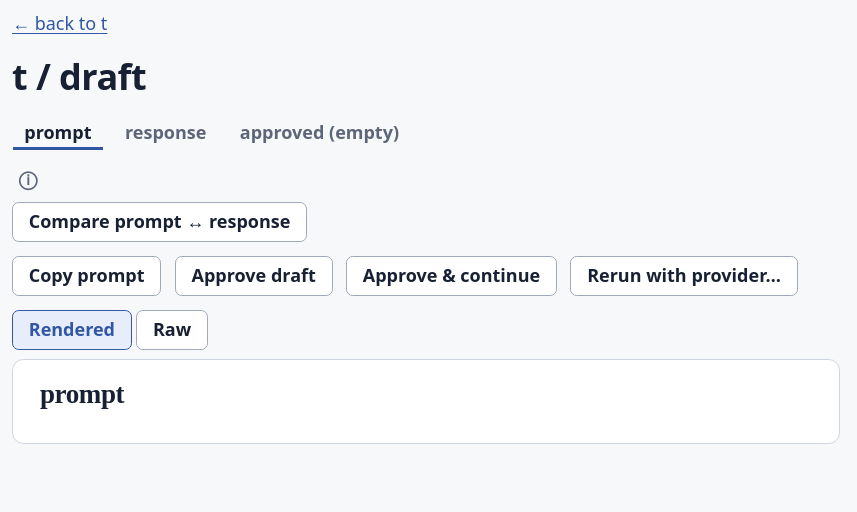
StageViewerPage › announces a failed follow-up as an alert while reporting the approval
Click the button "Approve & continue".
click(451, 276)  # box [346,256,557,296]
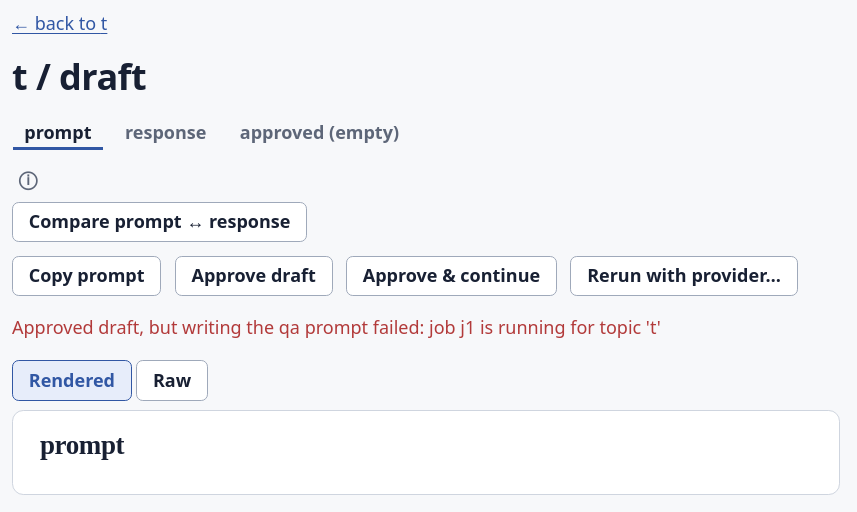
Result: the message shows "Approved draft, but writing the qa prompt failed: job j1 is running for topic 't'" at [12,315,661,339]
